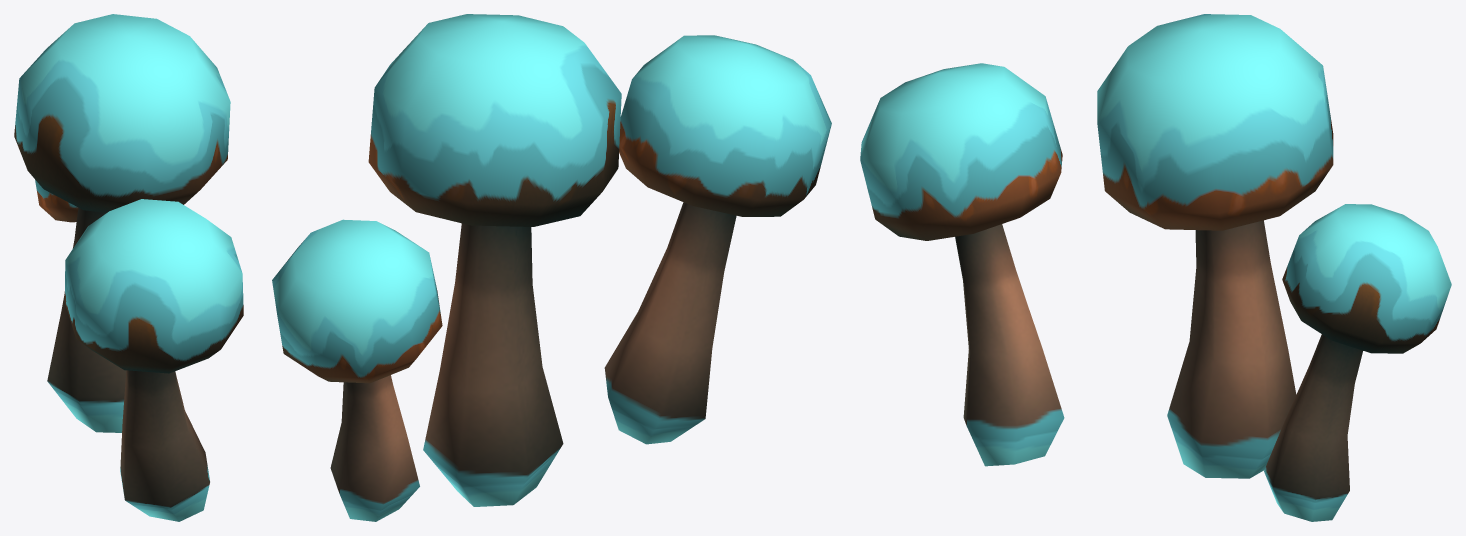
Rendered from Mushroom2.FBX.
3 views of the same model, side by side, from view 1: azimuth 30°, elevation 25°; view 2: azimuth 150°, elevation 25°; view 3: azimuth 270°, elevation 25° (orthographic). The views are drawn at different scales.
Parts seen in each view (by area): view 1: Mushroom2; view 2: Mushroom2; view 3: Mushroom2.
Part boxes in pixels (left/top/right/bottom): Mushroom2: left=14, top=14, right=243, bottom=521; Mushroom2: left=272, top=14, right=831, bottom=521; Mushroom2: left=860, top=14, right=1451, bottom=521.
Size of the model in its own units: 17.84 by 25.24 by 29.76.
1 material, 1 textured.
